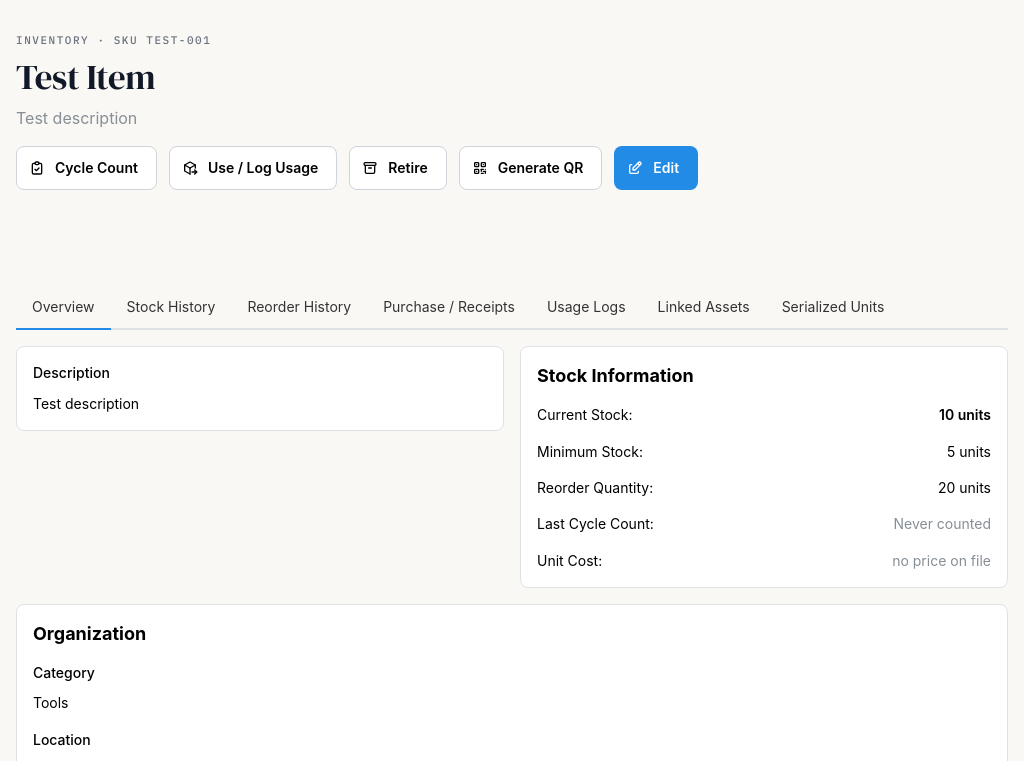
Scenario: InventoryItemDetailPage — log usage › hints that nothing is charged when the item has no unit cost
This screenshot has width=1024, height=761.
Expected: the heading "Test Item" is shown, [16,53,155,101]
Click the button with test id "log-usage-button" at (253, 168), box [169,146,337,190]
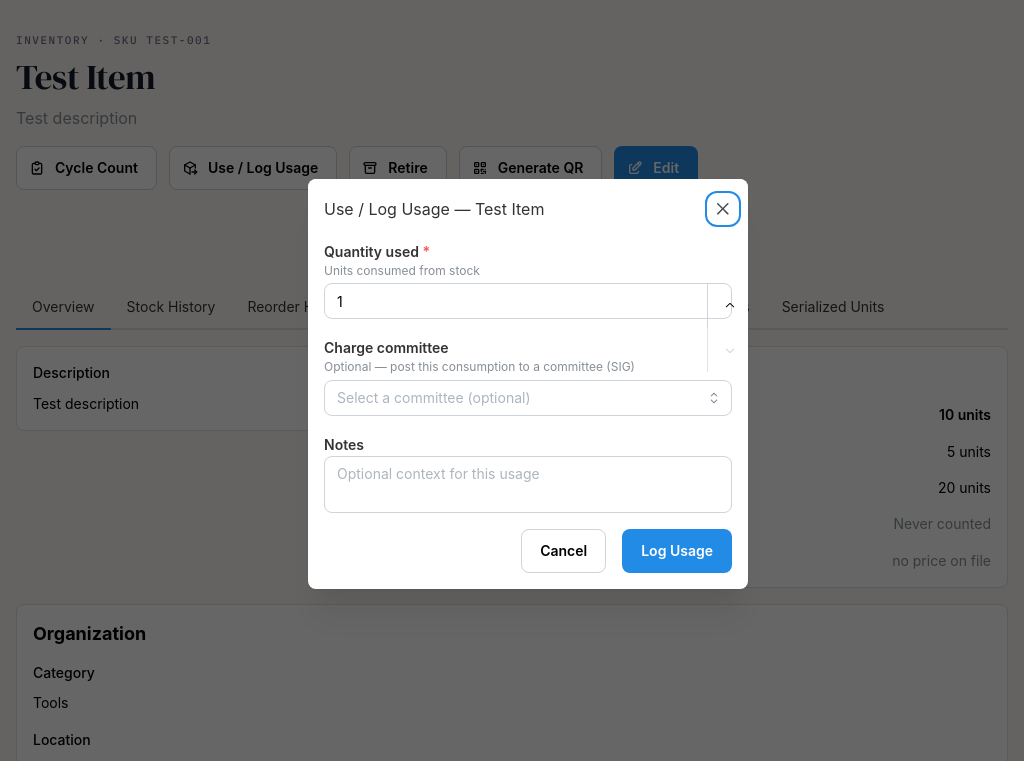
Now the button with test id "log-usage-submit" is shown, box [622,529,732,573]
Click the dropdown with placeholder "Select a committee (optional)" at (528, 398), box [324,380,732,416]
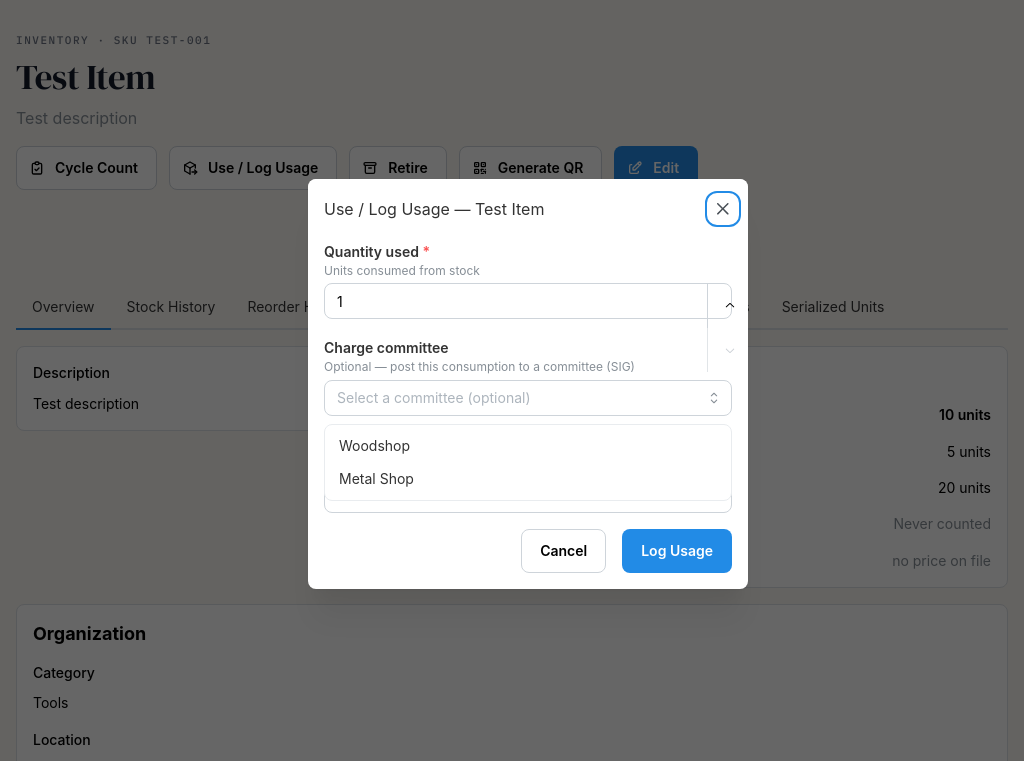
Click the option "Woodshop" at (375, 445), box [339,437,410,454]
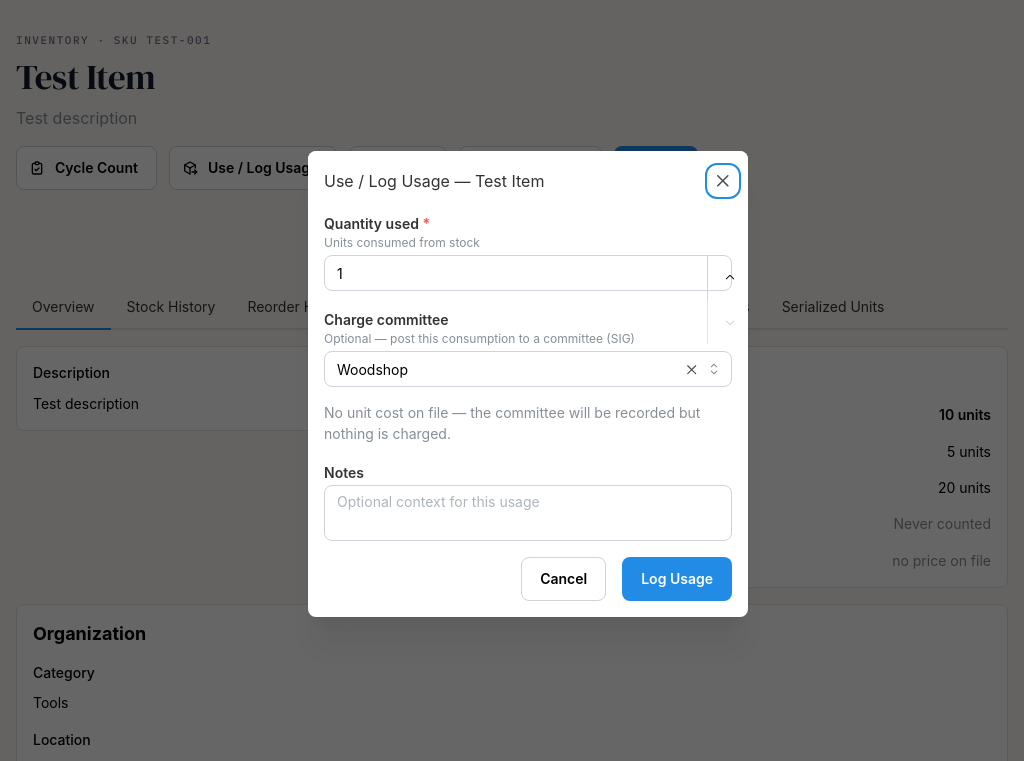
Now the text with test id "log-usage-no-cost" is shown, box [324,403,732,444]
